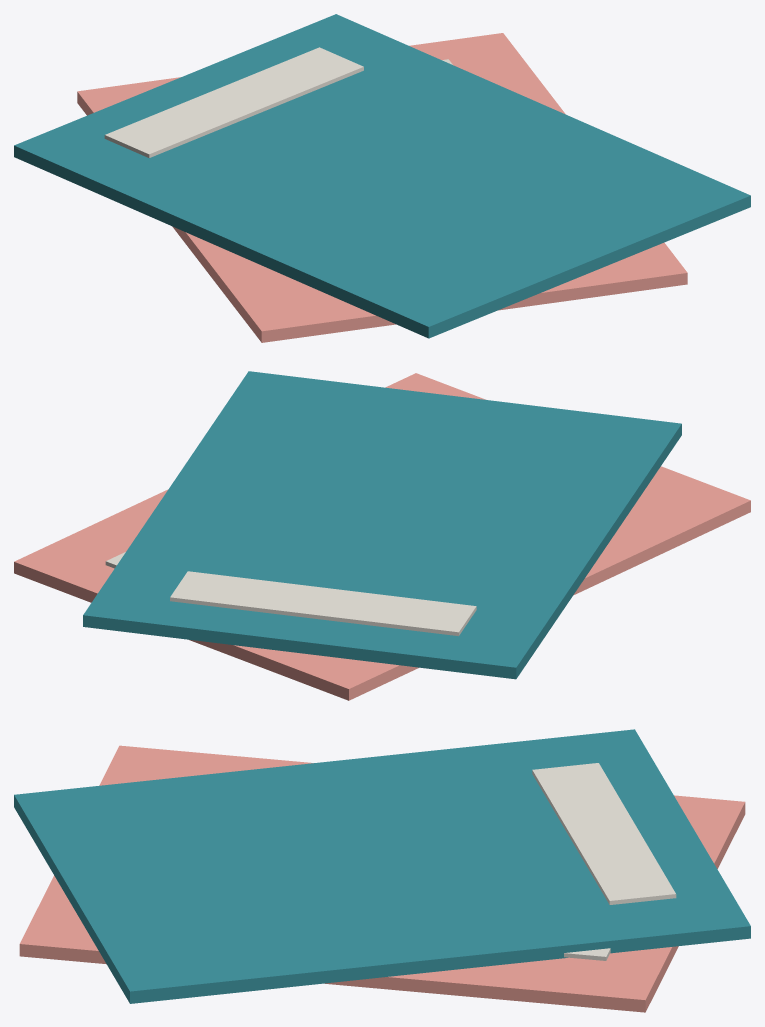
Rendered from bb_set_magazines.fbx.
The picture shows the model from 3 angles, top to bottom: view 1: azimuth 30°, elevation 25°; view 2: azimuth 150°, elevation 25°; view 3: azimuth 270°, elevation 25°; orthographic projection. The views are drawn at different scales.
Visible parts, largest first — view 1: bb_set_magazines; view 2: bb_set_magazines; view 3: bb_set_magazines.
Boxes of the visible parts, x1=… form: bb_set_magazines: x1=14, y1=14, x2=750, y2=342; bb_set_magazines: x1=14, y1=371, x2=750, y2=700; bb_set_magazines: x1=14, y1=729, x2=750, y2=1012.
Bounding box in the file's own units: 0.2715 × 0.0145 × 0.3225.
